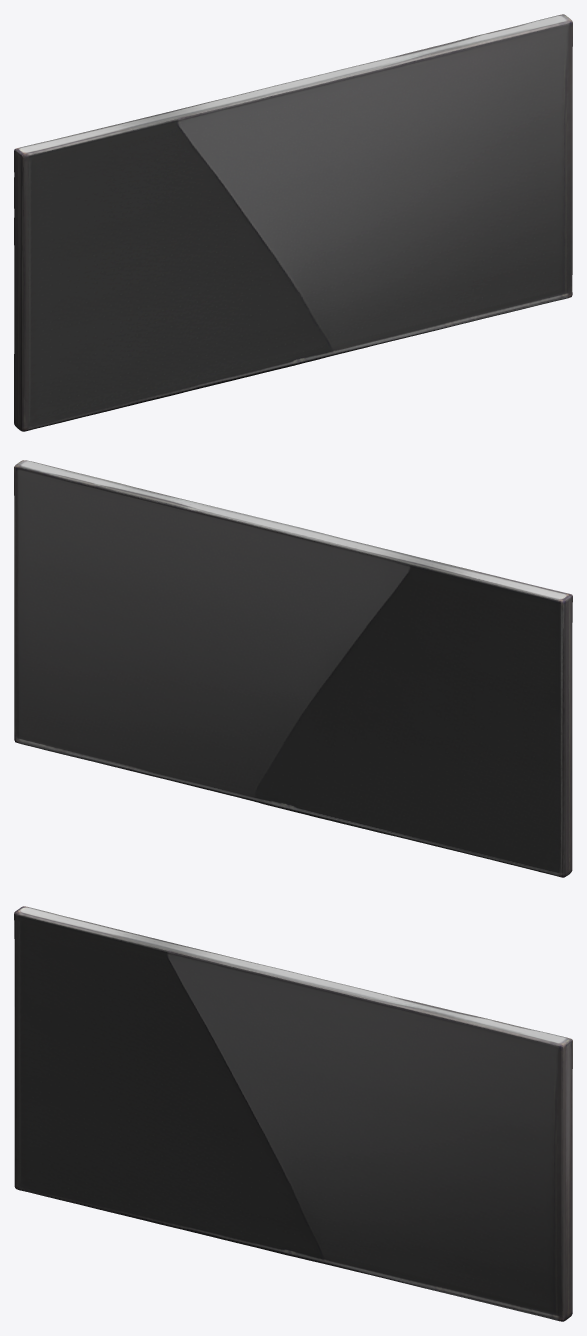
The picture shows the model from 3 angles, top to bottom: view 1: azimuth 30°, elevation 25°; view 2: azimuth 150°, elevation 25°; view 3: azimuth 330°, elevation 25°; orthographic projection.
Visible parts, largest first — view 1: world; view 2: world; view 3: world.
Boxes of the visible parts, bbox=[...] form: world: bbox=[14, 14, 572, 431]; world: bbox=[14, 460, 572, 877]; world: bbox=[14, 906, 572, 1321].
Bounding box in the file's own units: 1 × 0.4862 × 0.0328.
Materials: 1 (1 with a texture image).
